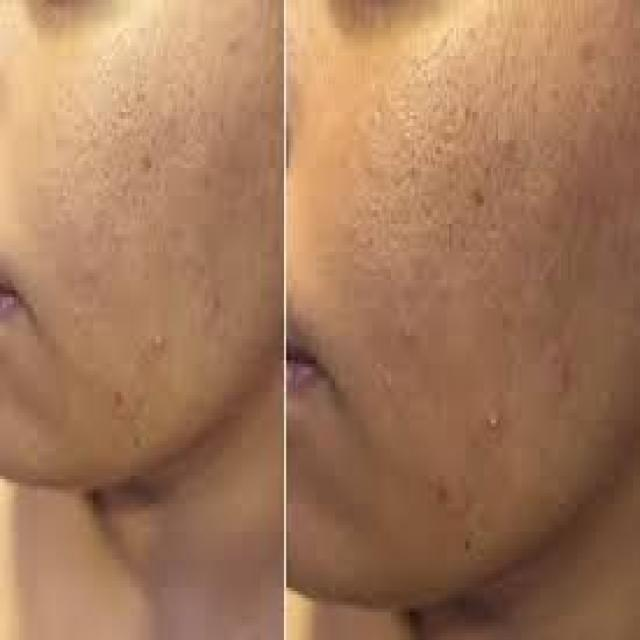Acne: (97, 325, 201, 442)
Englarged-Pores: (360, 96, 556, 256), (64, 104, 271, 228)
